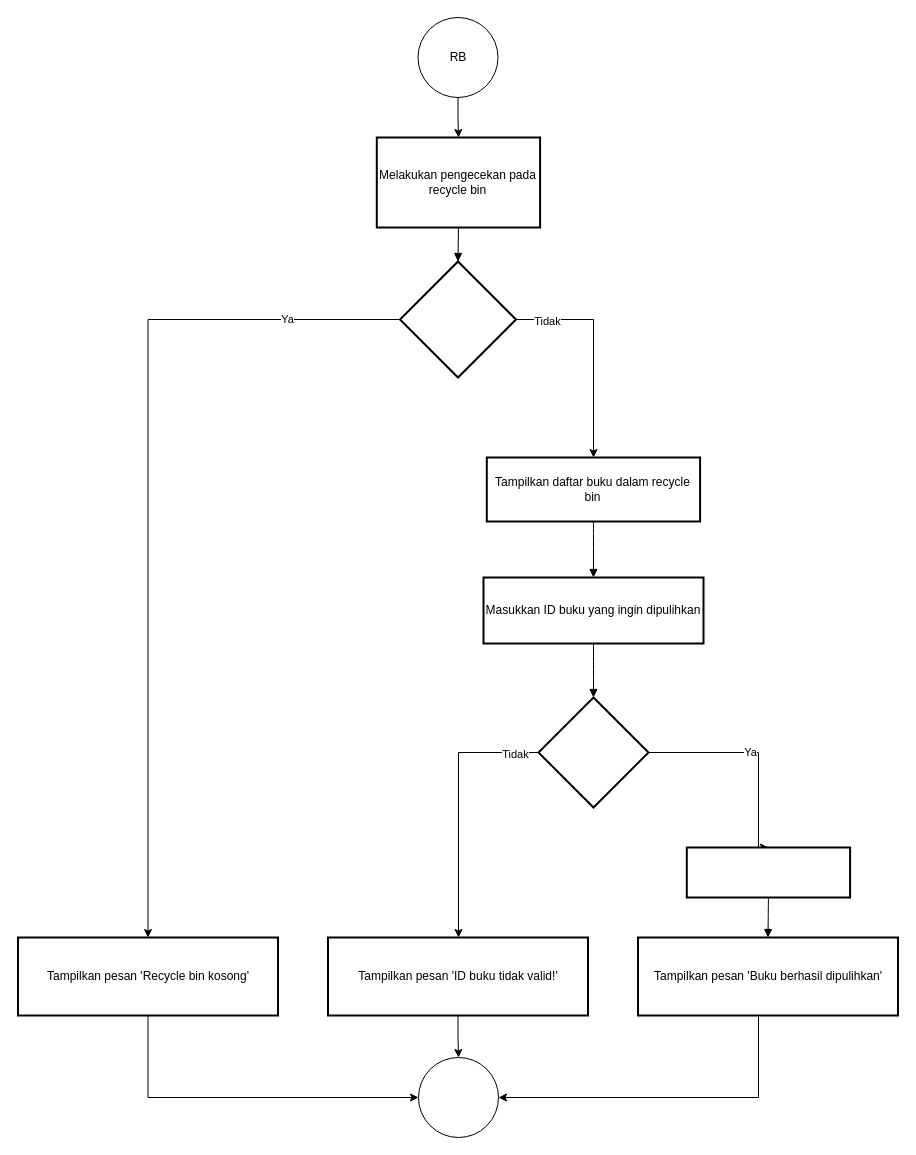
Image size: 916x1155. Some labels were removed from this diagram. The shapes that lost their labels are listed below. From the top down, each one's centre as x and y in pixels, then its label:
pixel 457 319: Apakah recycle bin kosong?
pixel 593 752: Apakah ID buku valid?
pixel 768 872: Pindahkan buku dari recycle bin ke katalog
